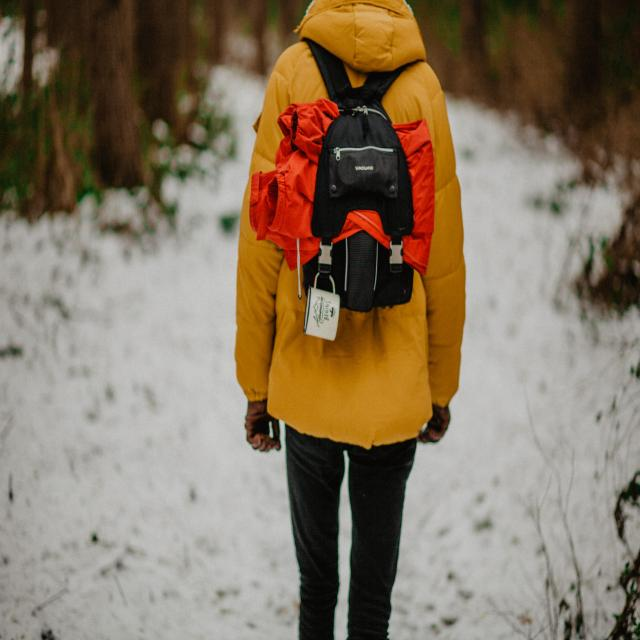backpack: (290, 33, 427, 304)
